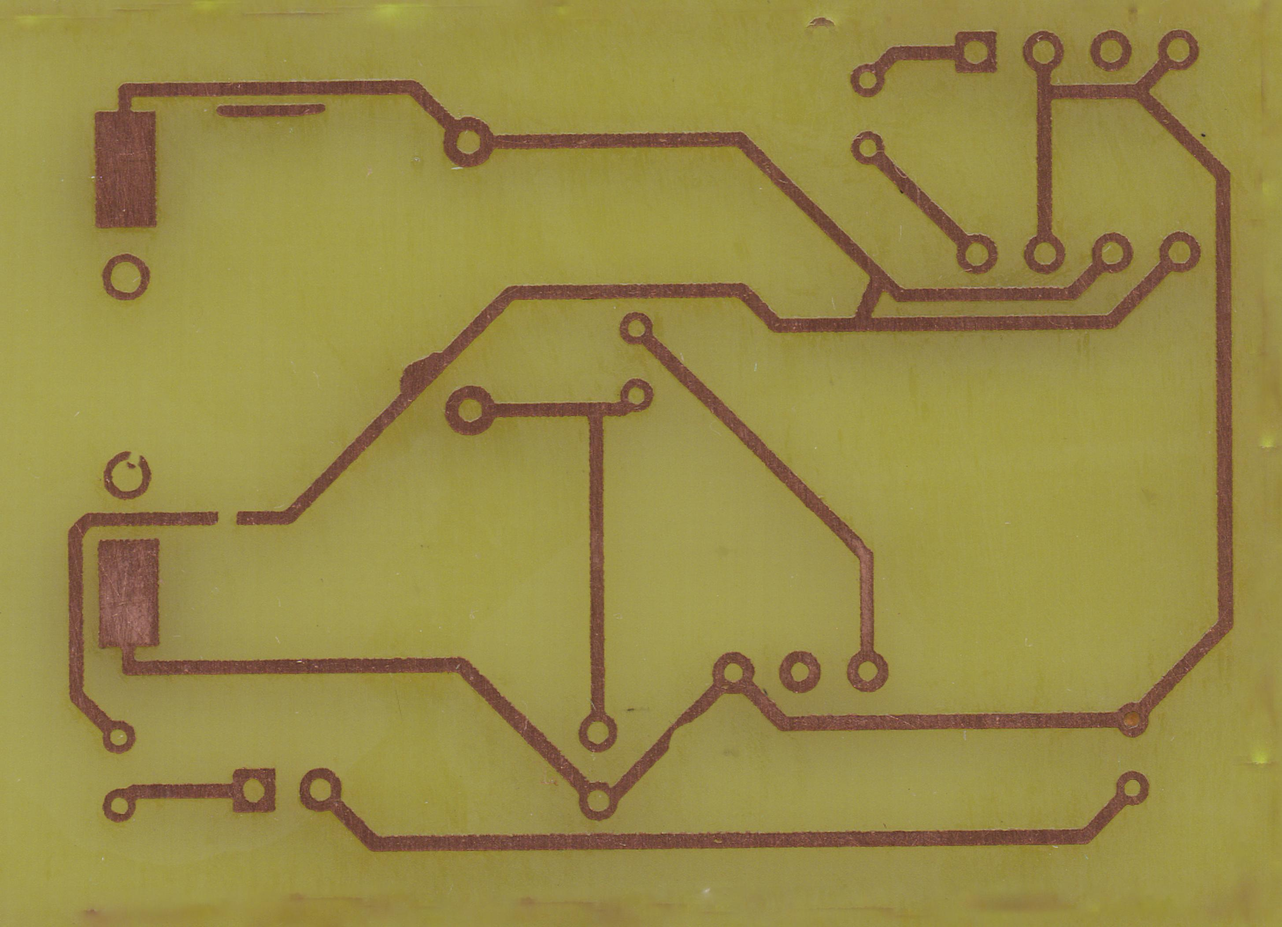missing_hole: (99, 448, 156, 501)
mouse_bite: (660, 712, 701, 753)
open_circuit: (204, 506, 252, 529)
short: (849, 266, 888, 334)
spur: (396, 352, 443, 399)
spurious_copper: (209, 99, 335, 121)
